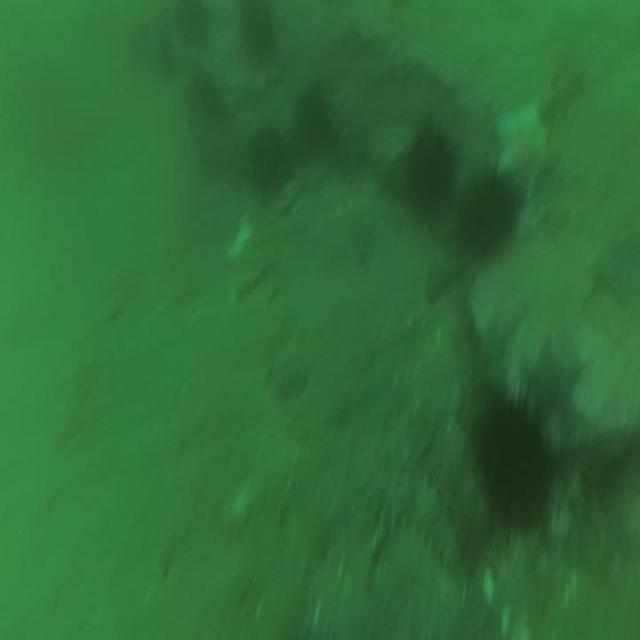echinus: (462, 365, 566, 548), (455, 147, 523, 265), (400, 109, 466, 223), (292, 77, 340, 162), (245, 117, 295, 191), (237, 5, 280, 58)
starfish: (495, 96, 557, 201)
